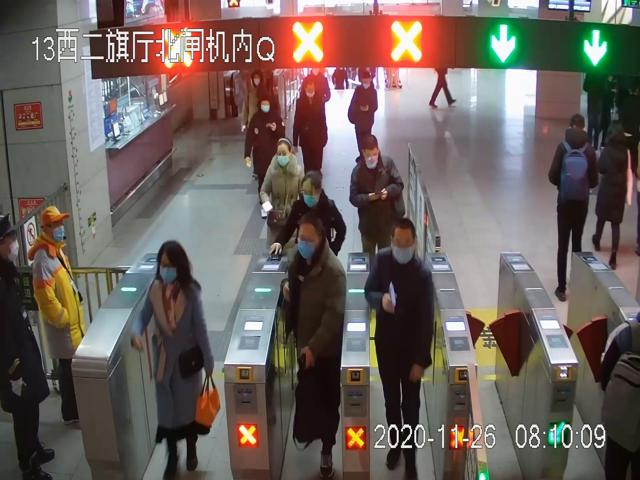person: (131, 239, 220, 480), (364, 220, 436, 480), (286, 215, 346, 479), (28, 206, 89, 425), (548, 112, 600, 300), (348, 137, 406, 284), (258, 137, 303, 255), (245, 92, 281, 220), (294, 77, 329, 192)
